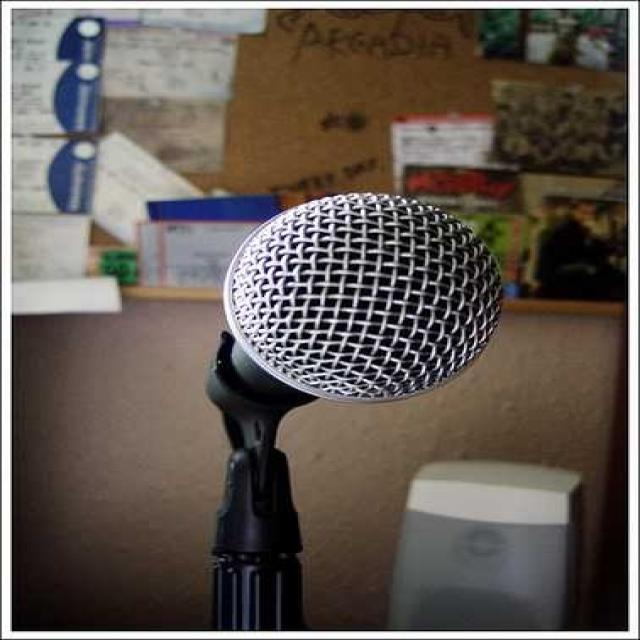microphone: (201, 188, 526, 442)
